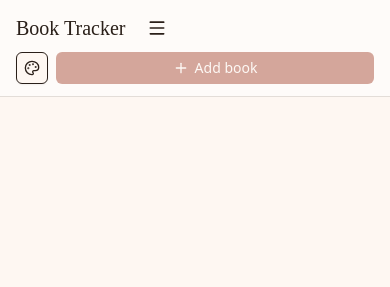
Test case: AppHeader › mobile navigation › clicking the hamburger reveals the mobile nav with all four links
Click the button with test id "header-nav-toggle" at x=158, y=28, box top-left (142, 12), bottom-right (174, 44)
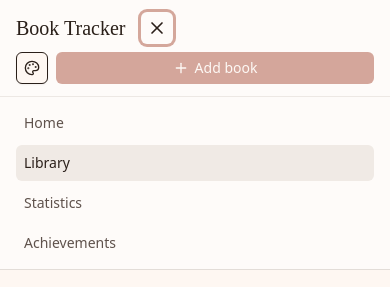
Check: the links read "Home", "Library", "Statistics", "Achievements", in this order, box top-left (24, 113), bottom-right (64, 132); top-left (16, 145), bottom-right (374, 181); top-left (24, 193), bottom-right (82, 212); top-left (24, 233), bottom-right (116, 252)
Check: the link "Library" is shown, box top-left (16, 145), bottom-right (374, 181)
Check: the button with test id "header-nav-toggle" is expanded, box top-left (142, 12), bottom-right (174, 44)
